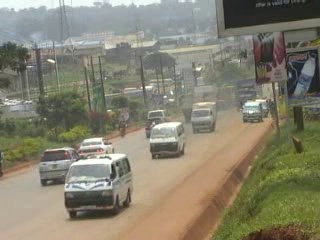Car: (37, 144, 85, 188), (76, 136, 115, 160), (143, 116, 174, 138)
Motorcycle: (114, 118, 128, 140)
